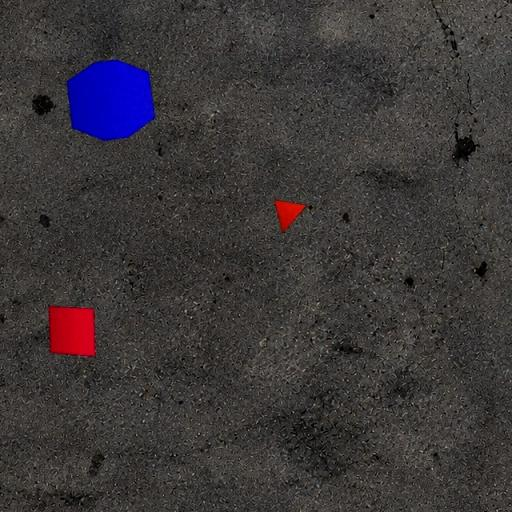RED_SQUARE: (48, 306, 96, 358)
